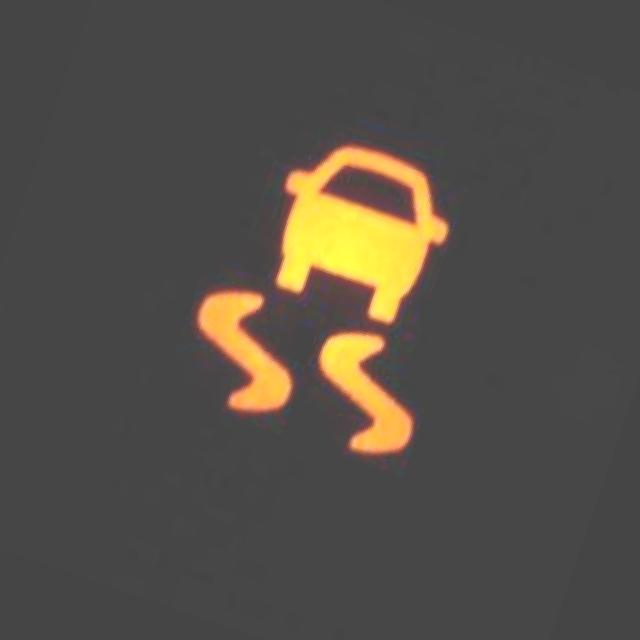kontrolka: (103, 56, 544, 533)
